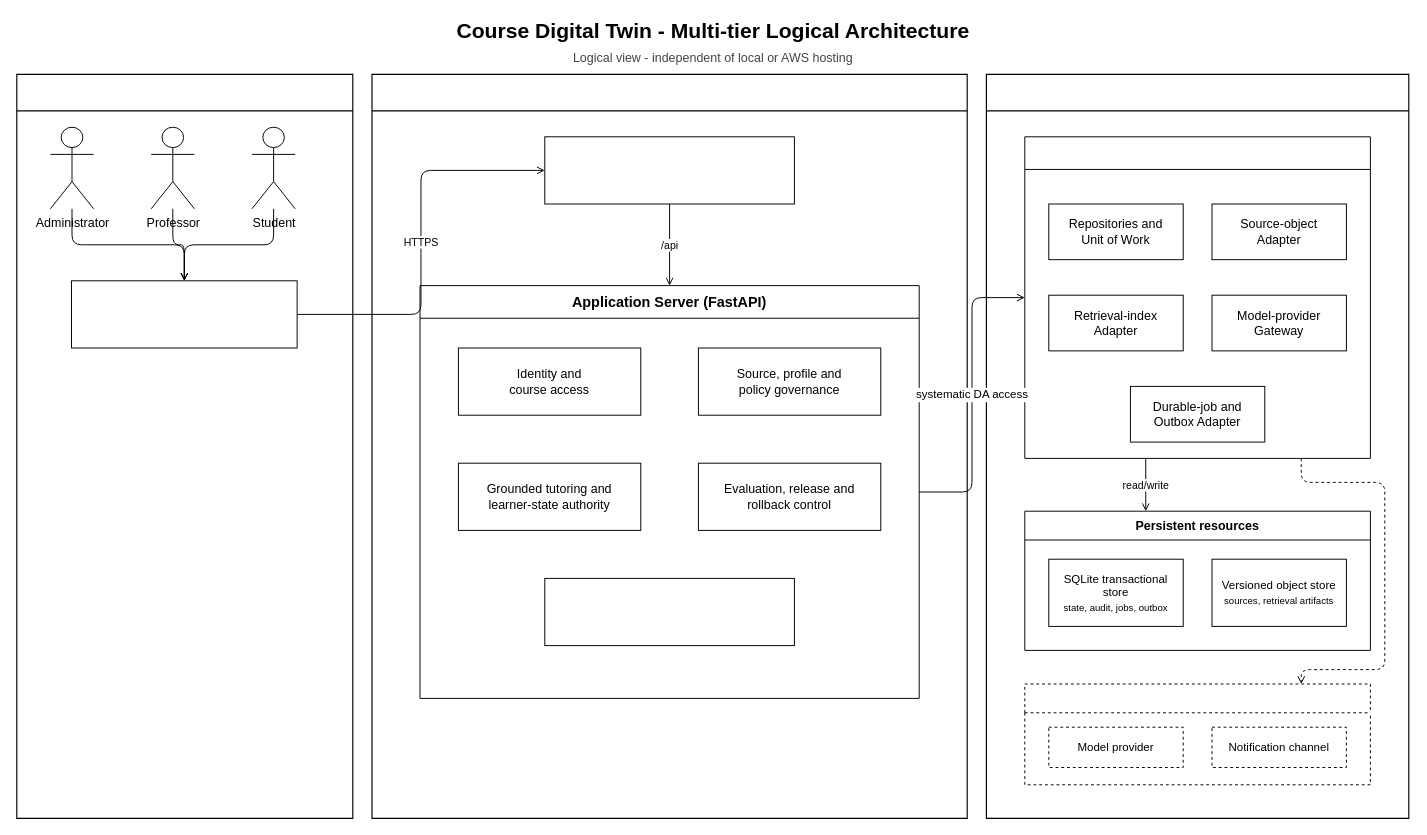
Some shapes in this 1427 by 835 pixel diagram are drawn without their labels. Each missing label, with the box of its shape:
Approved external systems: (1024, 683, 1370, 785)
Audit, recovery, delivery and cost controls: (544, 577, 794, 646)
Business Logic Layer: (371, 73, 967, 818)
Data Access (DA) Layer: (985, 73, 1409, 818)
Data Access classes and adapters: (1024, 136, 1370, 458)
Presentation Layer: (16, 73, 353, 818)
Web Application role-specific browser views: (71, 280, 297, 348)
Web Server Caddy: HTTPS and same-origin routing: (544, 136, 794, 204)
